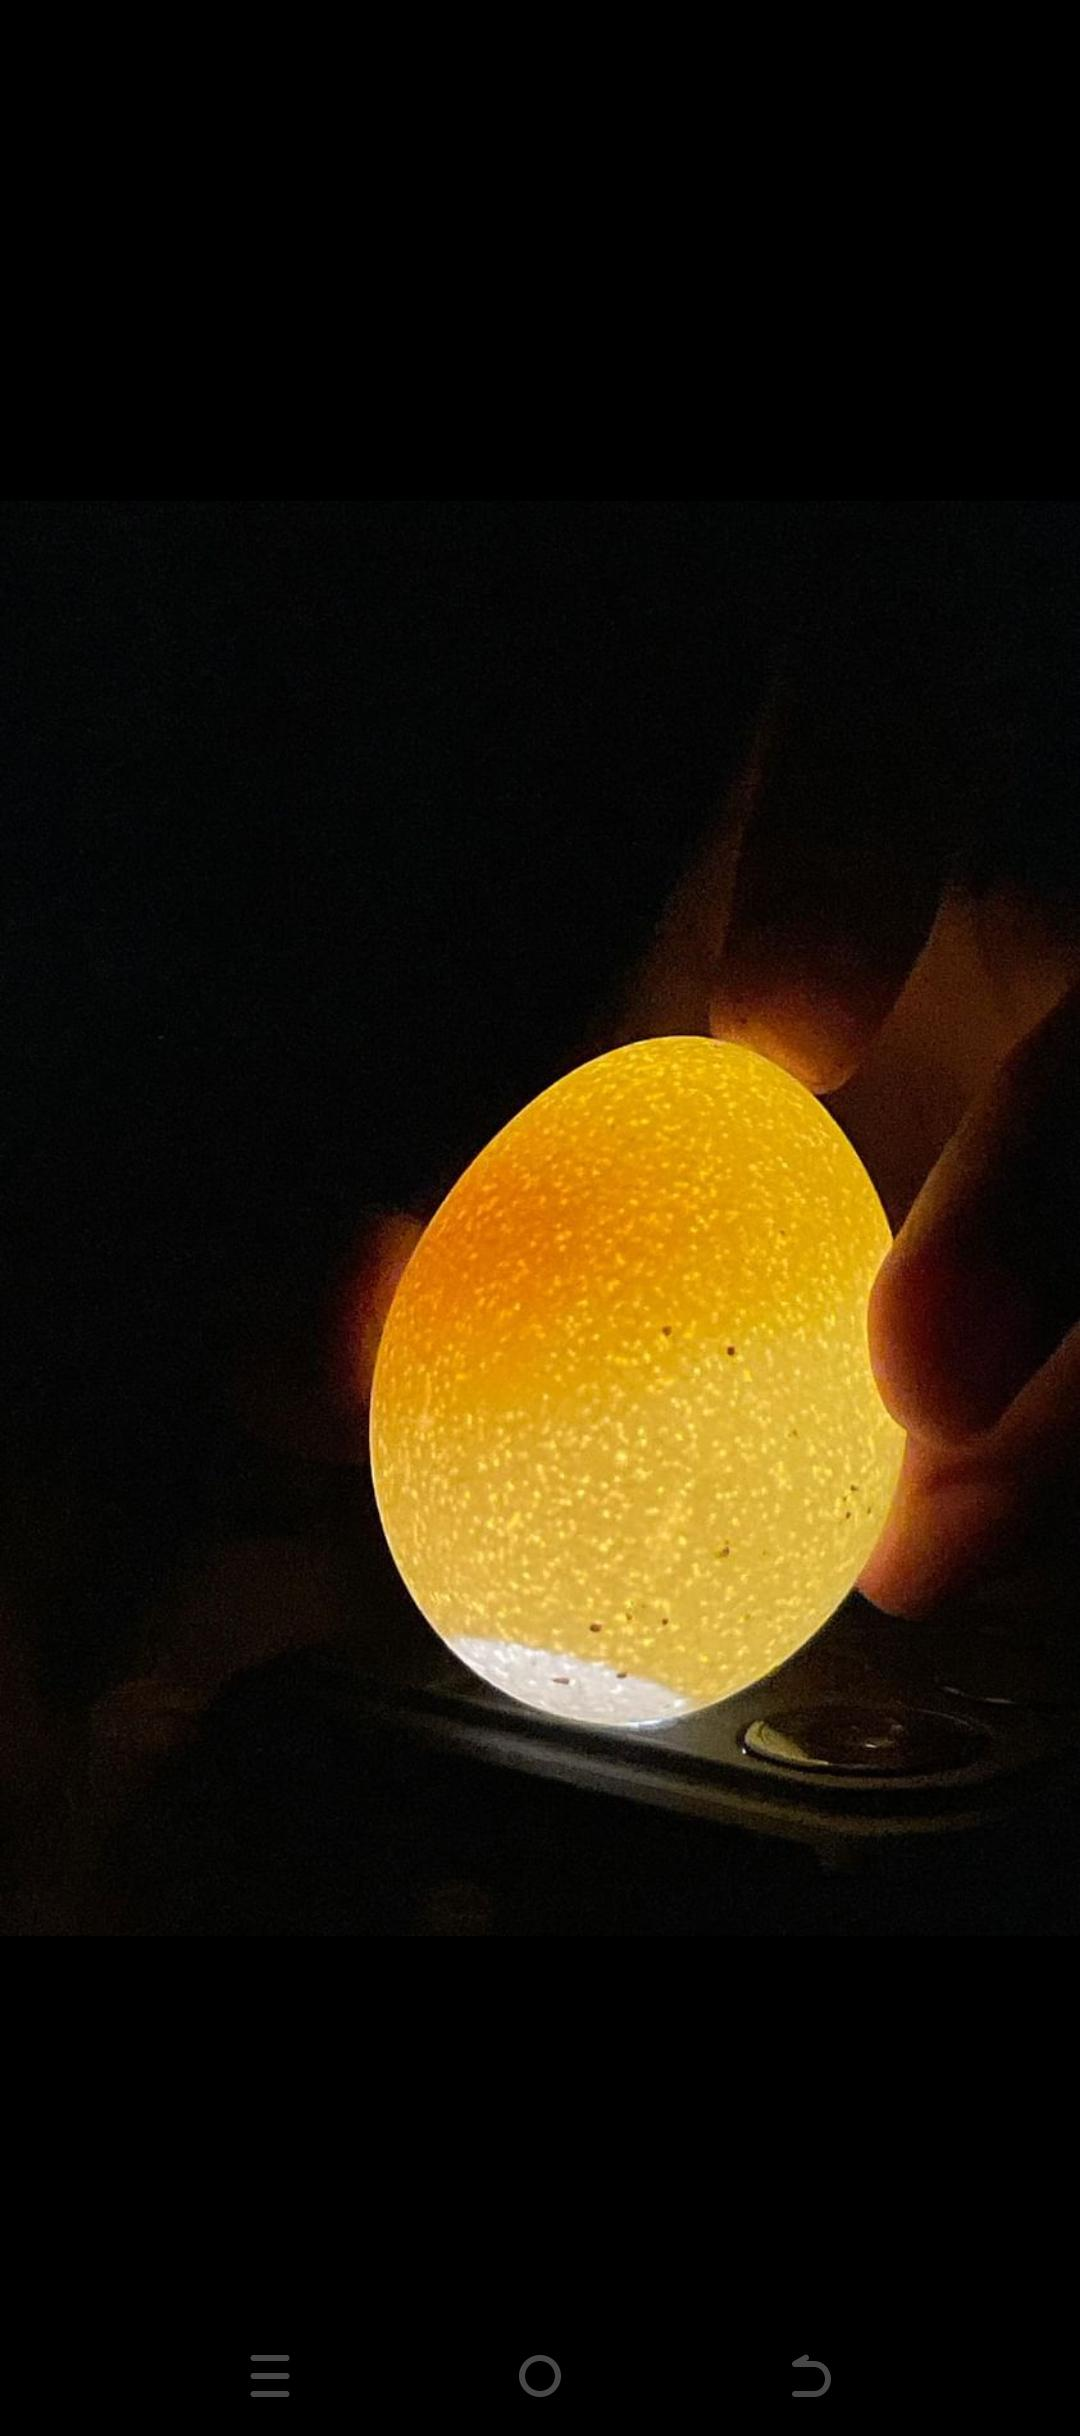AA - Premium: (350, 1010, 929, 1749)
